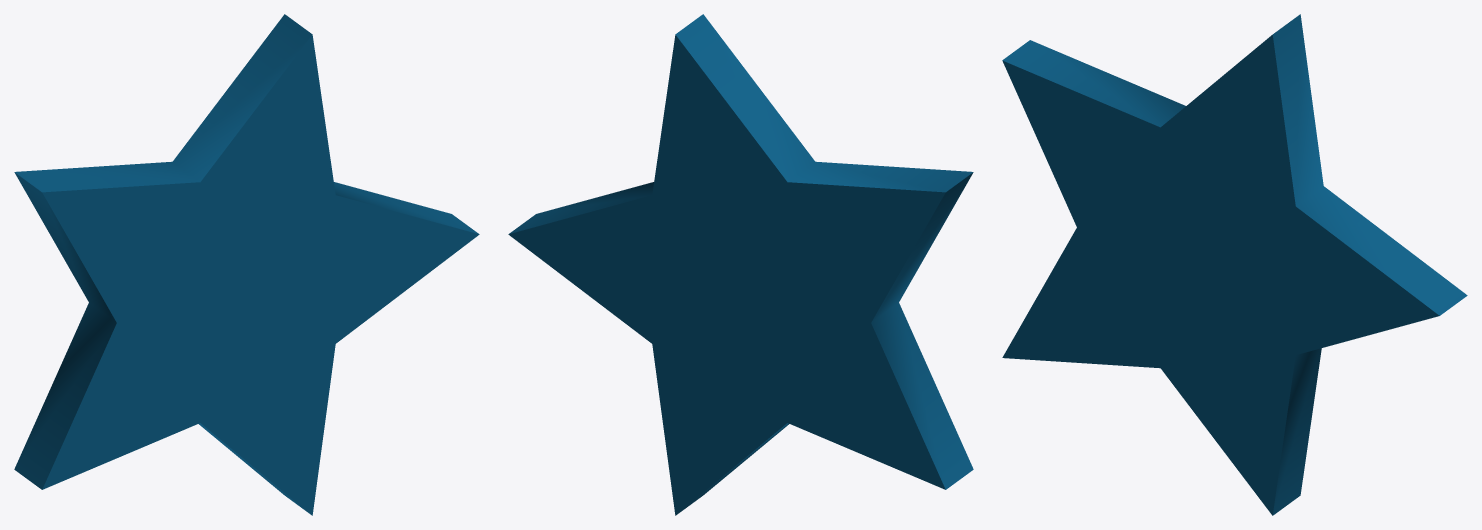
Rendered from star.fbx.
The picture shows the model from 3 angles, left to right: view 1: azimuth 30°, elevation 25°; view 2: azimuth 150°, elevation 25°; view 3: azimuth 330°, elevation 25°; orthographic projection.
Visible parts, largest first — view 1: Deckfläche_1, Extrudieren; view 2: Deckfläche_2, Extrudieren; view 3: Deckfläche_1, Extrudieren.
Boxes of the visible parts, bbox=[...] form: Deckfläche_1: bbox=[42, 35, 479, 515]; Extrudieren: bbox=[14, 14, 478, 513]; Deckfläche_2: bbox=[508, 35, 945, 515]; Extrudieren: bbox=[509, 14, 973, 513]; Deckfläche_1: bbox=[1002, 35, 1439, 515]; Extrudieren: bbox=[1002, 14, 1467, 515].
Bounding box in the file's own units: 181 × 190 × 20.
